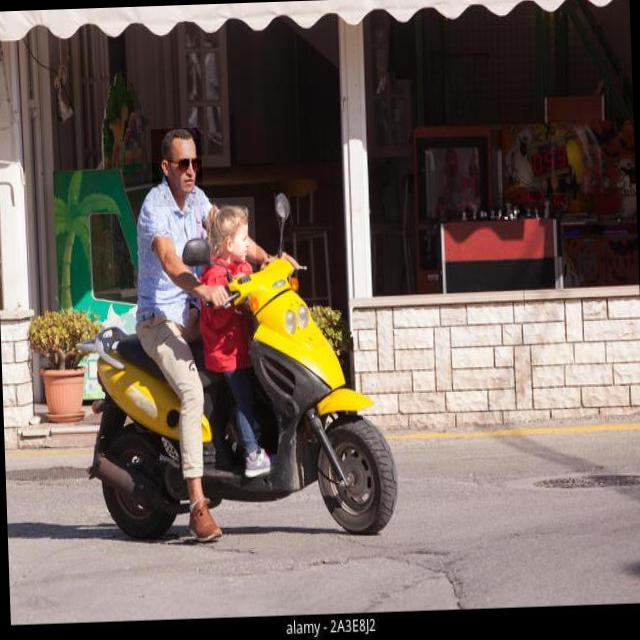without helmet: (150, 127, 203, 207), (208, 196, 256, 272)
